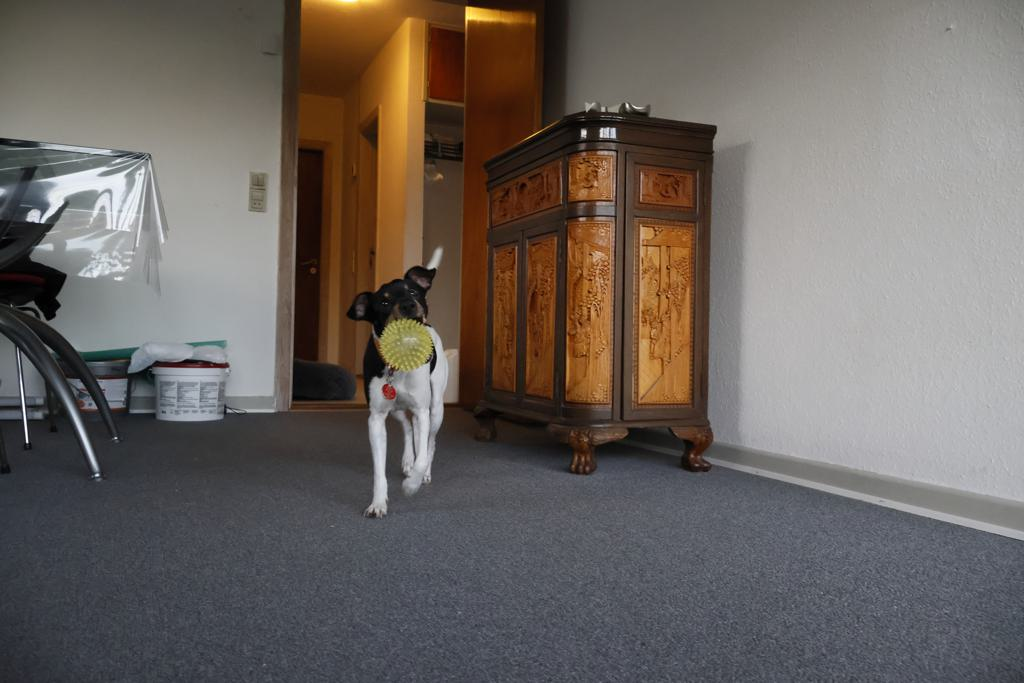Dog: (342, 240, 463, 528)
